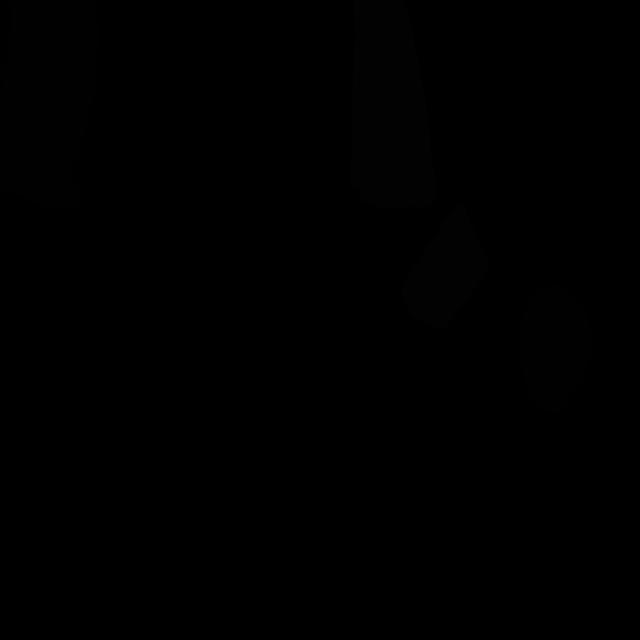cardboard: (350, 0, 438, 208), (400, 201, 490, 331)
rigid_plastic: (0, 0, 100, 211), (521, 284, 591, 414)
